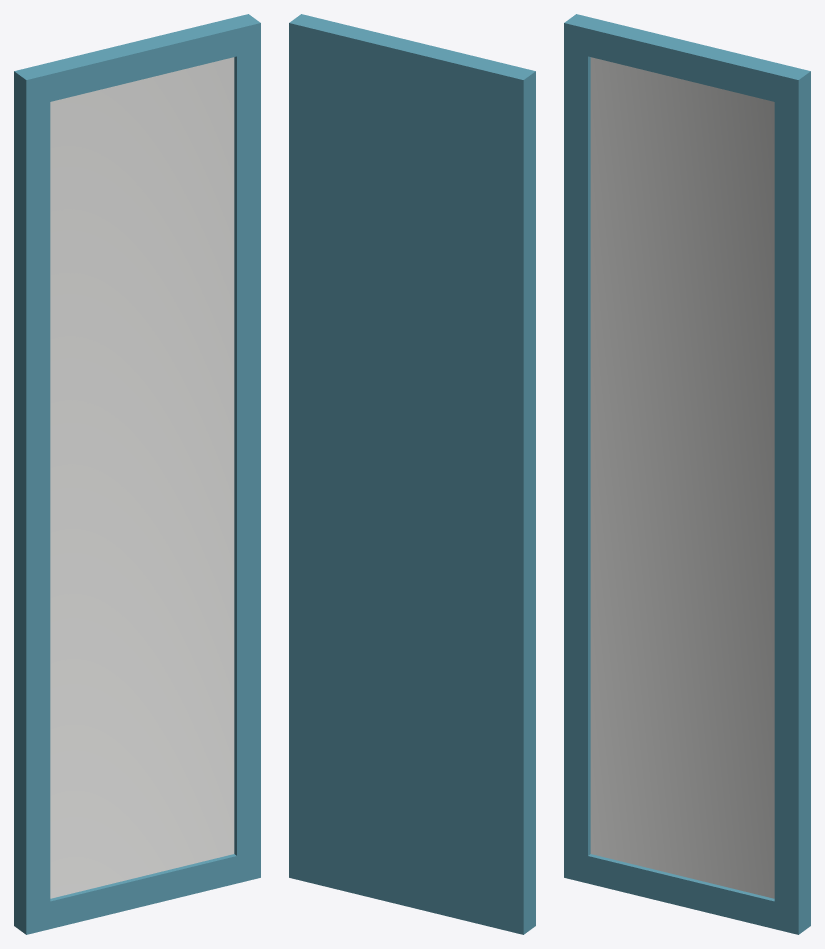
Rendered from mirror.fbx.
3 views of the same model, side by side, from view 1: azimuth 30°, elevation 25°; view 2: azimuth 150°, elevation 25°; view 3: azimuth 330°, elevation 25° (orthographic).
Parts seen in each view (by area): view 1: Cube.001; view 2: Cube.001; view 3: Cube.001.
Boxes of the visible parts, x1,y1,x2,y2 form: Cube.001: [14, 14, 260, 934]; Cube.001: [289, 14, 535, 934]; Cube.001: [564, 14, 810, 934].
Size of the model in its own units: 200 by 697 by 18.11.
